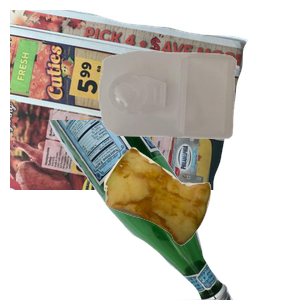glass: (37, 120, 262, 300)
paper: (10, 10, 250, 190)
plastic: (96, 48, 300, 179)
trash: (101, 145, 300, 300)
